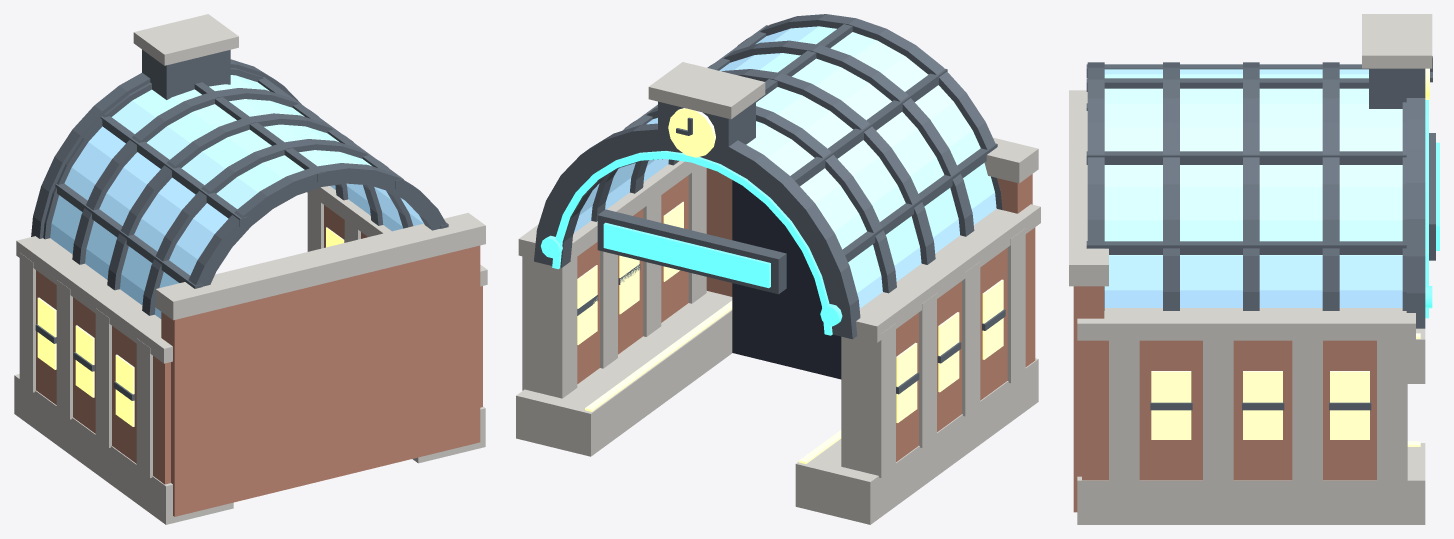
Rendered from station_terminal.glb.
3 views of the same model, side by side, from view 1: azimuth 30°, elevation 25°; view 2: azimuth 150°, elevation 25°; view 3: azimuth 270°, elevation 25° (orthographic). The views are drawn at different scales.
Visible parts, largest first — view 1: StationTerminalPhotoreal; view 2: StationTerminalPhotoreal; view 3: StationTerminalPhotoreal.
Part boxes in pixels (box(x1,y1,x2,y2)): StationTerminalPhotoreal: box(14, 14, 487, 524); StationTerminalPhotoreal: box(516, 14, 1040, 524); StationTerminalPhotoreal: box(1069, 14, 1439, 524).
Bounding box in the file's own units: 0.912 × 0.94 × 0.7885.
